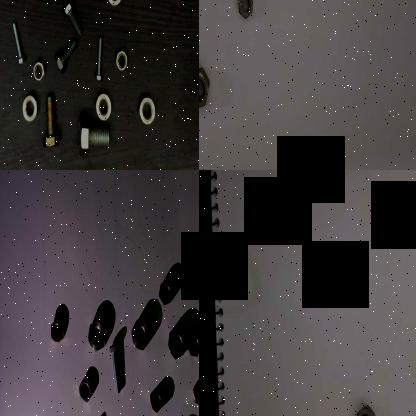Bolts: (71, 118, 109, 158), (40, 90, 63, 150), (52, 35, 76, 80), (107, 338, 124, 394), (61, 0, 82, 35), (94, 30, 105, 84)
NUTS: (164, 322, 184, 360), (86, 316, 107, 352), (135, 92, 156, 127), (18, 90, 40, 121), (130, 316, 148, 352), (93, 92, 111, 124), (199, 62, 210, 110), (184, 327, 199, 359), (49, 316, 66, 344), (77, 377, 94, 405), (148, 388, 166, 414), (114, 43, 128, 73), (231, 0, 253, 19), (353, 397, 375, 416), (30, 54, 44, 82), (158, 278, 172, 306), (191, 378, 199, 404), (103, 0, 123, 9)
